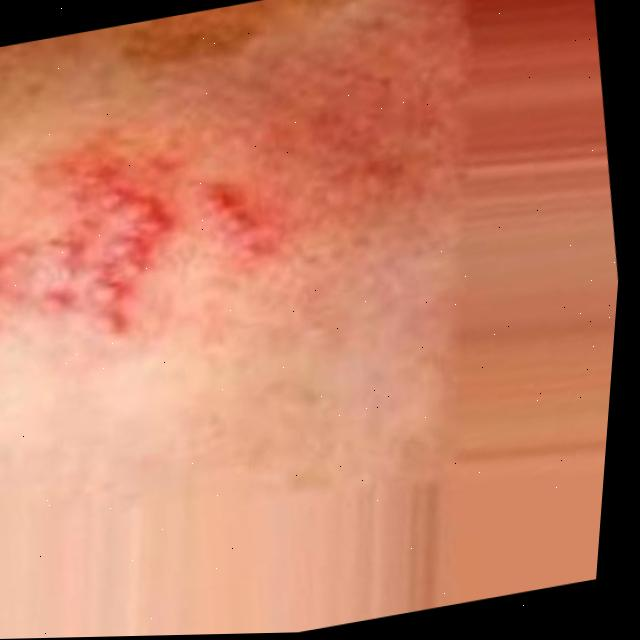Shingles: (0, 169, 289, 362)
